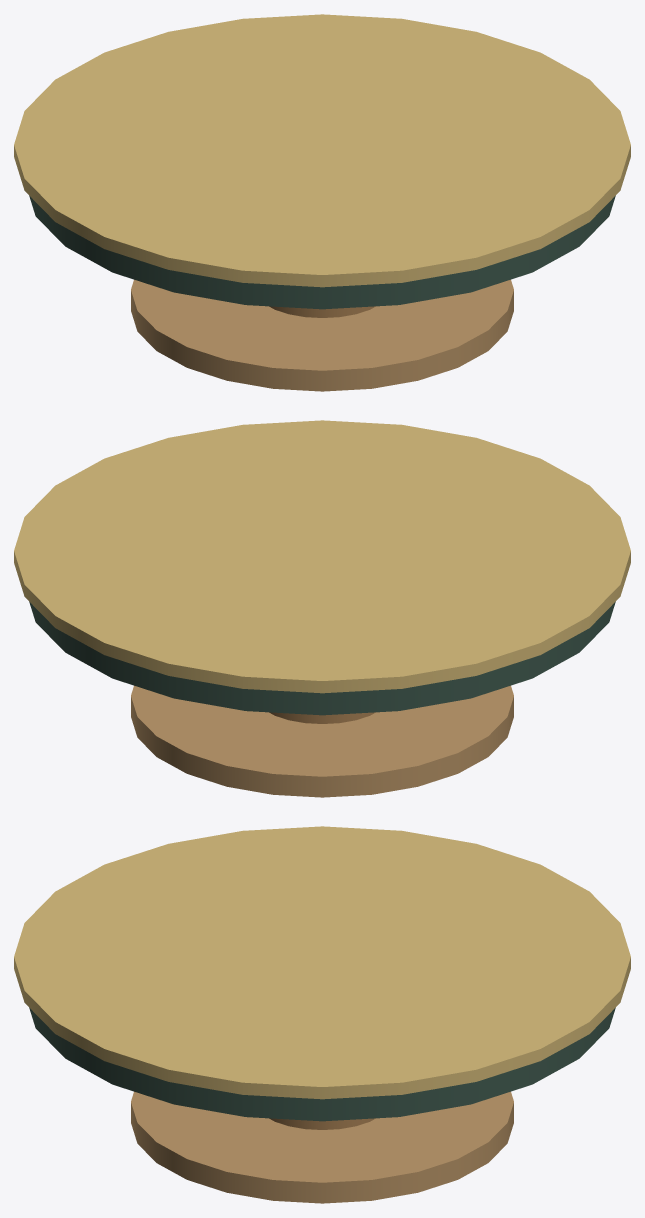
3 views of the same model, one above another, from view 1: azimuth 30°, elevation 25°; view 2: azimuth 150°, elevation 25°; view 3: azimuth 270°, elevation 25° (orthographic).
Bounding box in the file's own units: 3.22 × 0.955 × 3.22.
